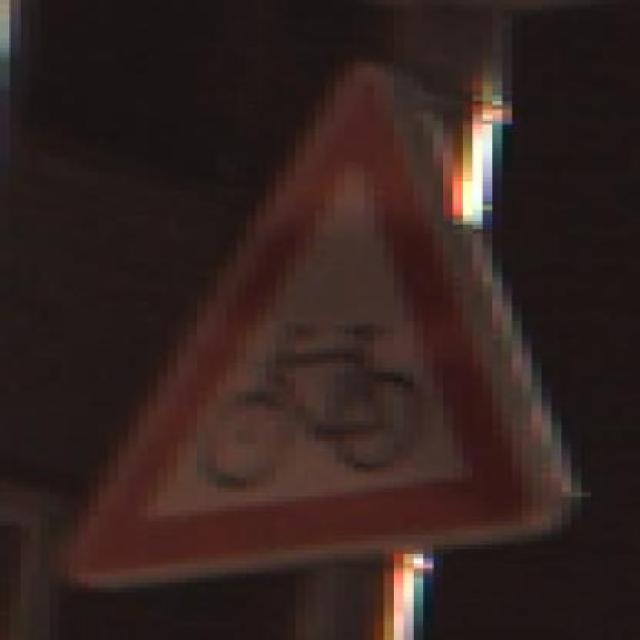CYCLE ROUTE AHEAD WARNING: (39, 38, 561, 607)
